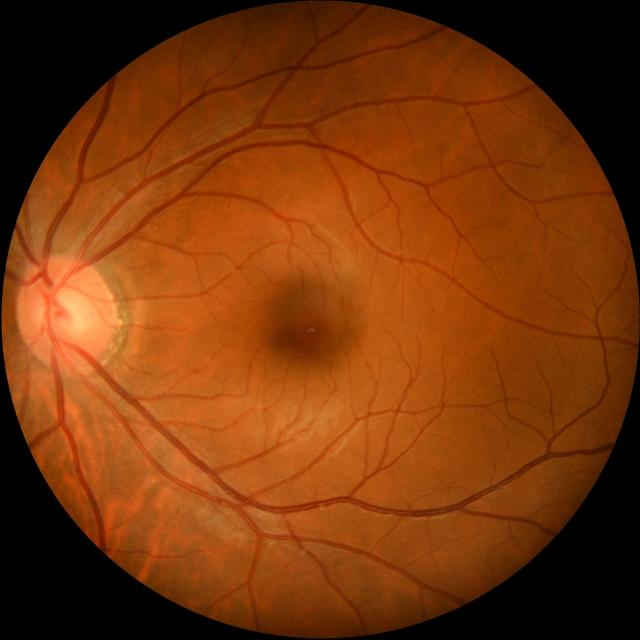OC: (46, 286, 88, 333)
OD: (16, 255, 113, 366)
